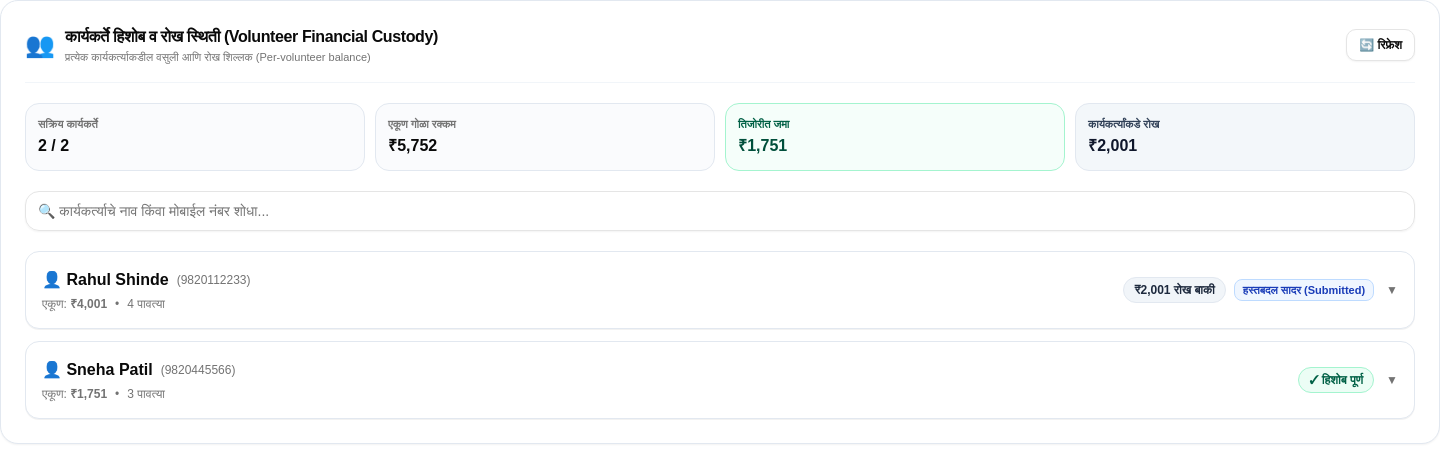
Test: VolunteerFinancialLedger › 5. search input filters volunteers dynamically
Type "Sneha" into the field with placeholder "🔍 कार्यकर्त्याचे नाव किंवा मोबाईल नंबर शोधा..." at (720,211), box [25, 191, 1415, 231]
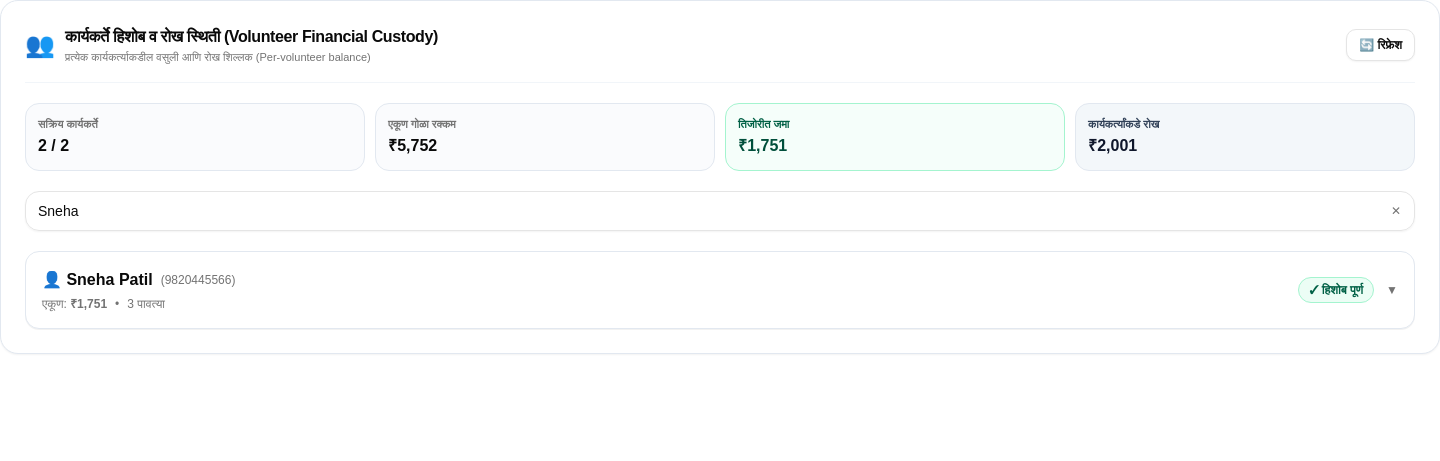
Expected: the text "👤 Sneha Patil" is shown, [42, 268, 153, 292]
Result: the button "Rahul Shinde" is gone
Clear search
Click the button "✕" at (1396,211), box [1387, 199, 1405, 223]
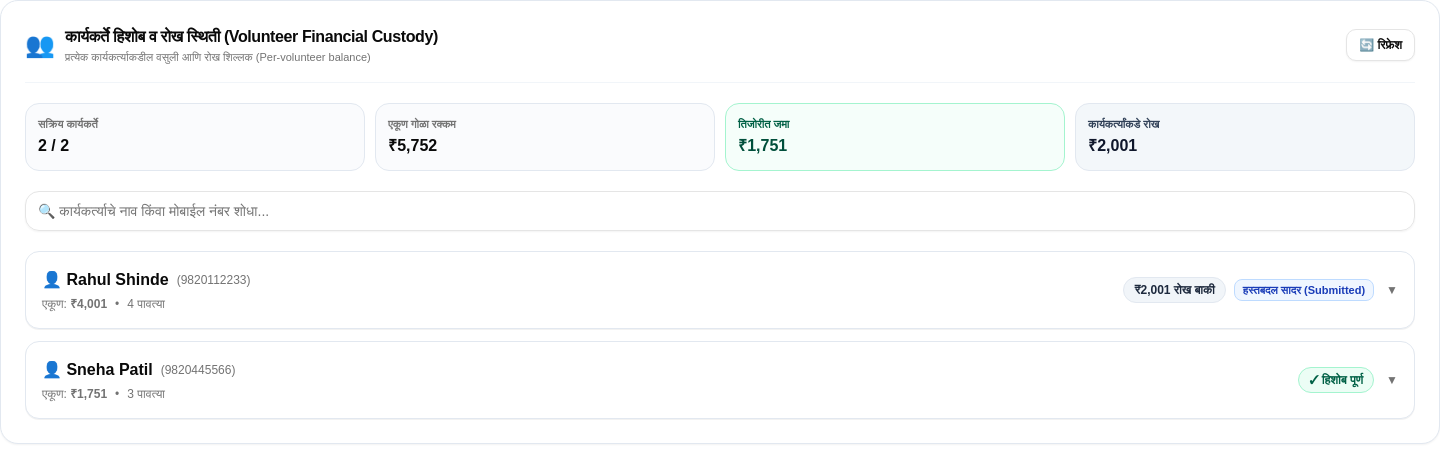
Expected: the text "👤 Sneha Patil" is shown, [42, 358, 153, 382]
Result: the text "👤 Rahul Shinde" is shown at [42, 268, 169, 292]
